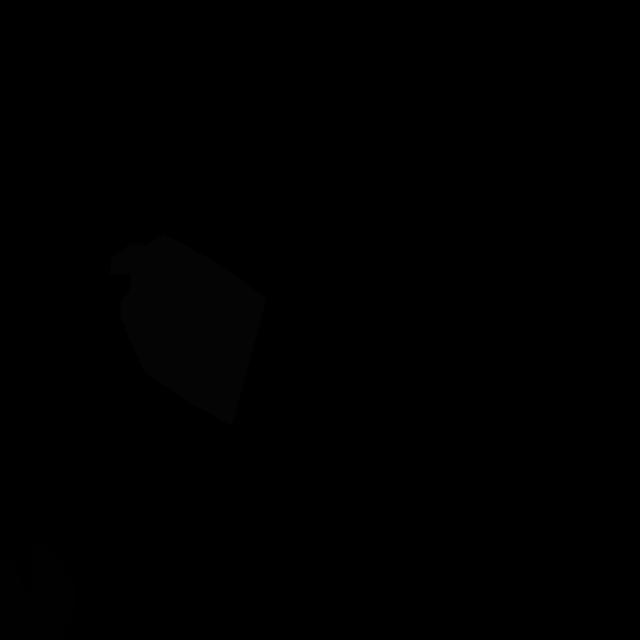rigid_plastic: (0, 542, 77, 639)
soft_plastic: (110, 234, 267, 426)
